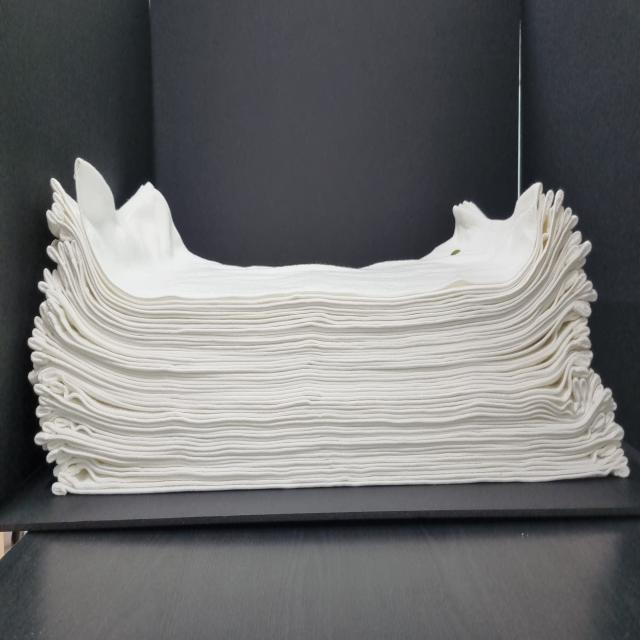50_towel_counts: (16, 151, 640, 505)
